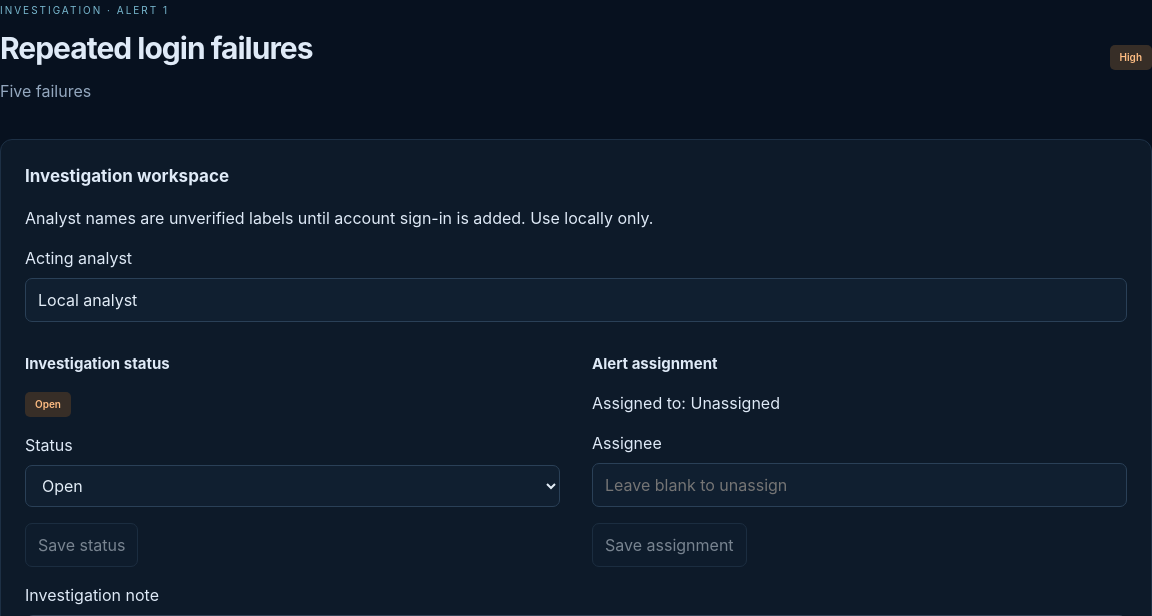
Test: saves assignment and clears only successfully submitted notes
Expected: the heading "Repeated login failures" is shown, x1=0 y1=26 x2=312 y2=71
In the field labelled "Assignee": x=860, y=485 x1=592 y1=463 x2=1127 y2=507, type "Neehal"
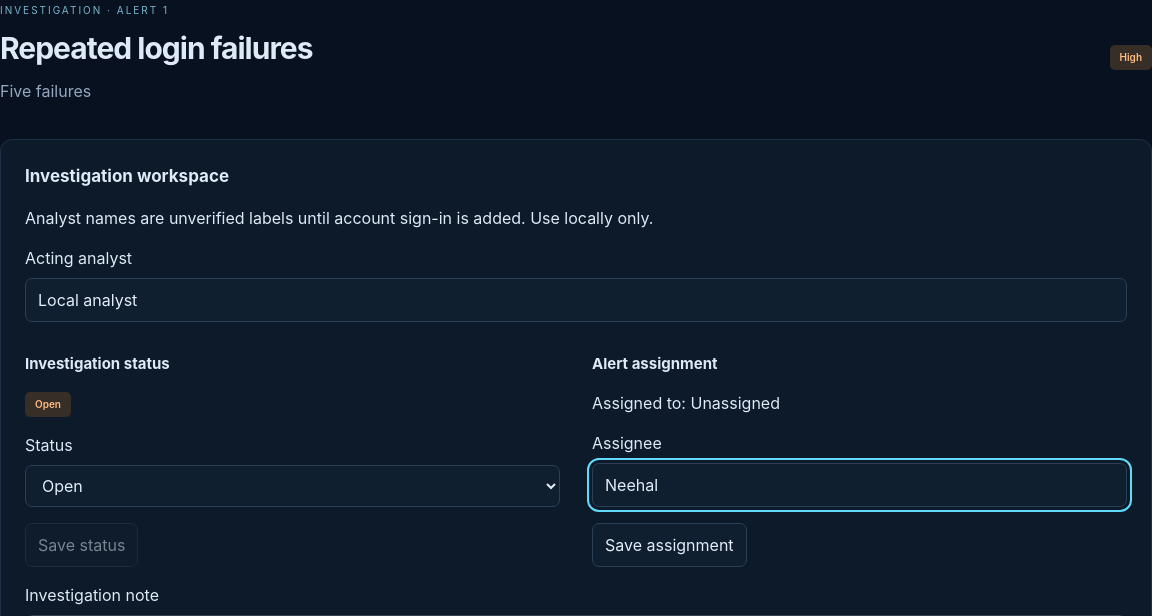
Click the button "Save assignment": x=669, y=545 x1=592 y1=523 x2=747 y2=567
(page scrolled)
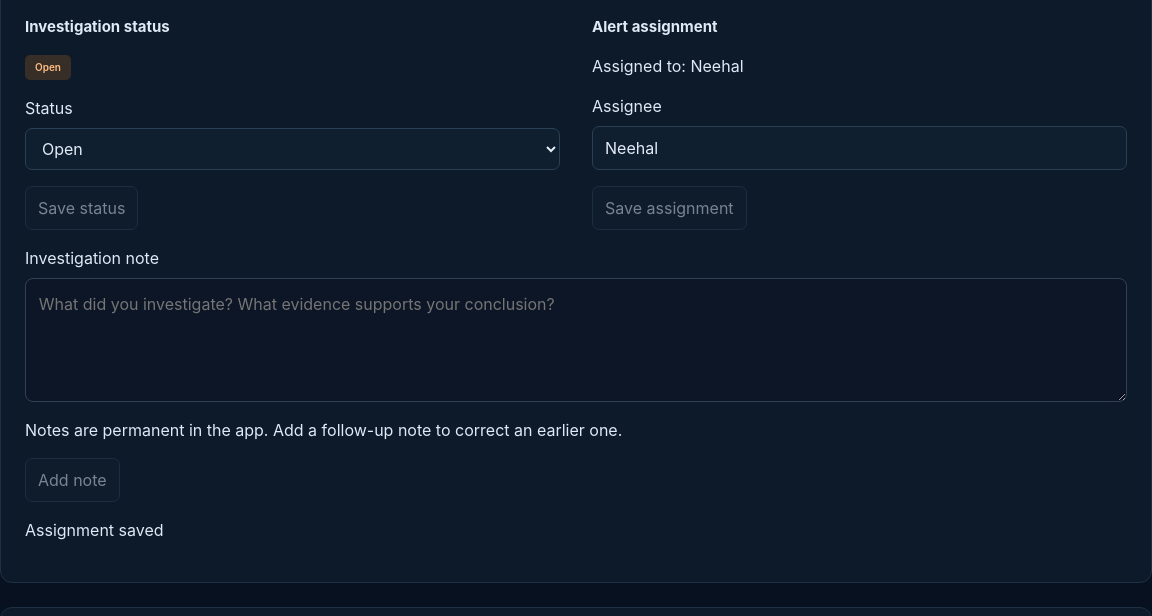
Now the text "Assigned to: Neehal" is shown, box x1=592 y1=56 x2=744 y2=76
In the text box labelled "Investigation note": x=576, y=340 x1=25 y1=278 x2=1127 y2=402, type "Checked the host"
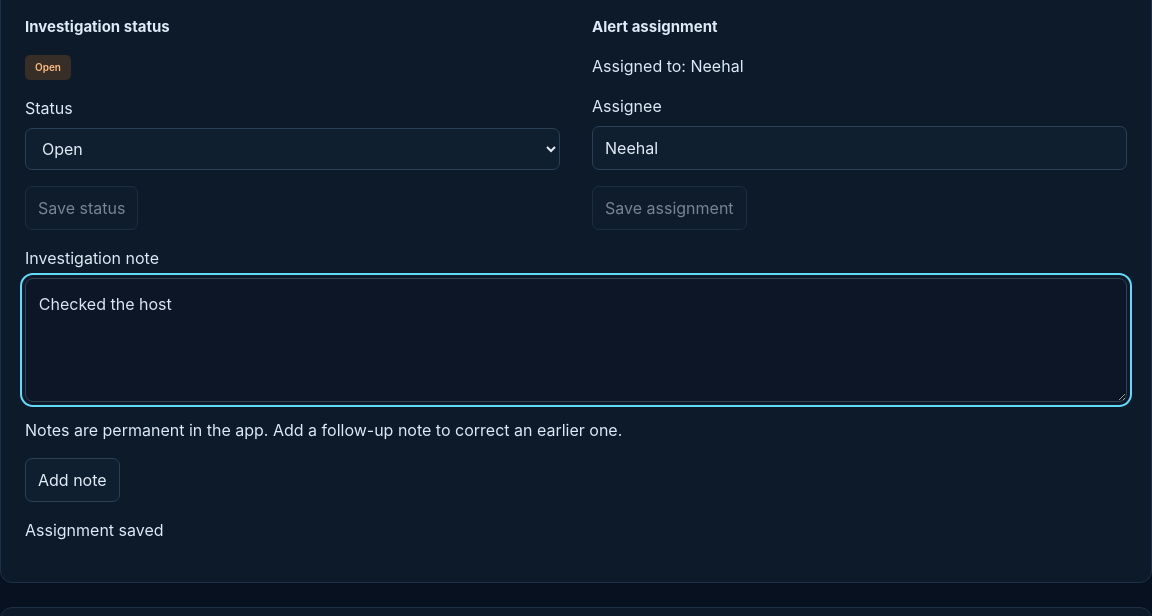
Click the button "Add note": x=72, y=480 x1=25 y1=458 x2=120 y2=502
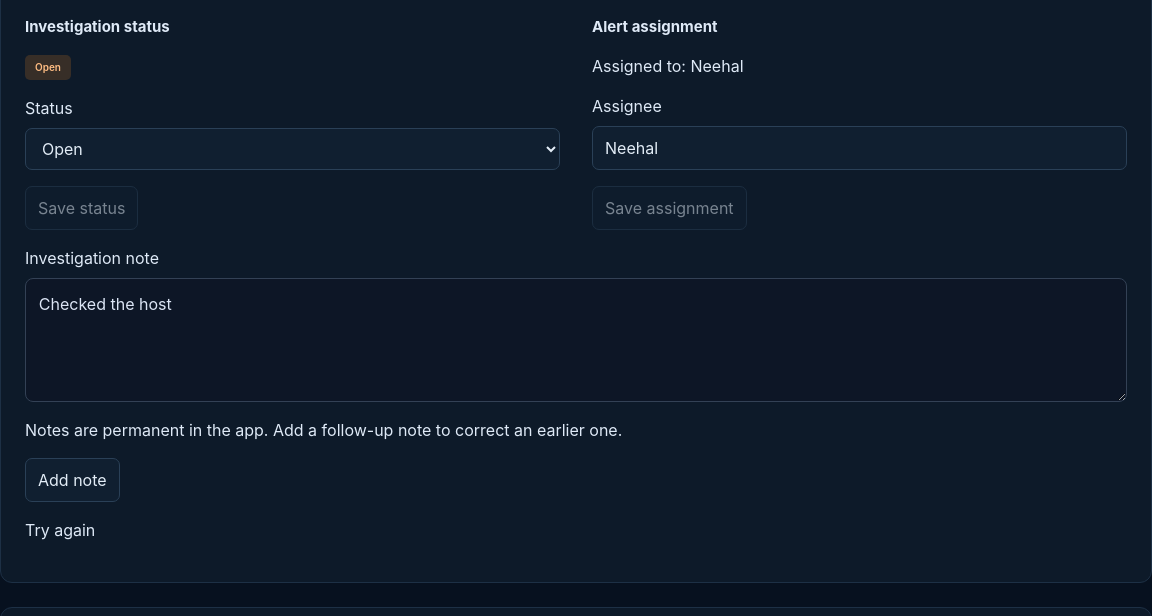
Now the text "Try again" is shown, box x1=25 y1=520 x2=95 y2=540
Click the button "Add note": x=72, y=480 x1=25 y1=458 x2=120 y2=502
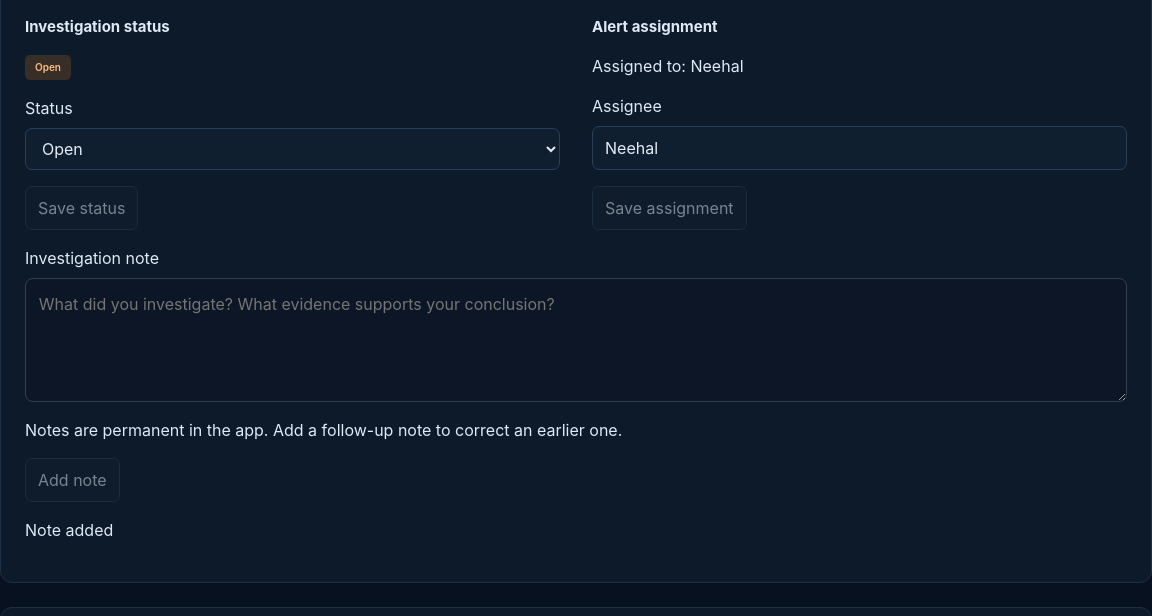
Now the text "Note added" is shown, box x1=25 y1=520 x2=113 y2=540
Now the text box labelled "Investigation note" is empty, box x1=25 y1=278 x2=1127 y2=402
